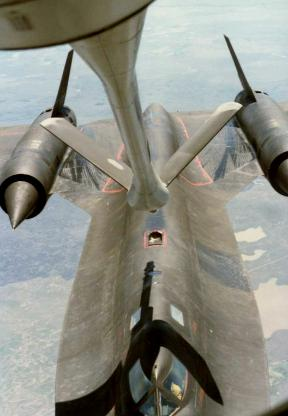Rafale: (1, 33, 288, 415)
